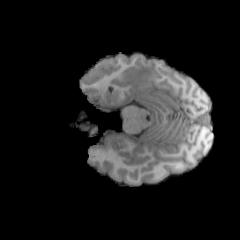glioma: (112, 64, 160, 94)
